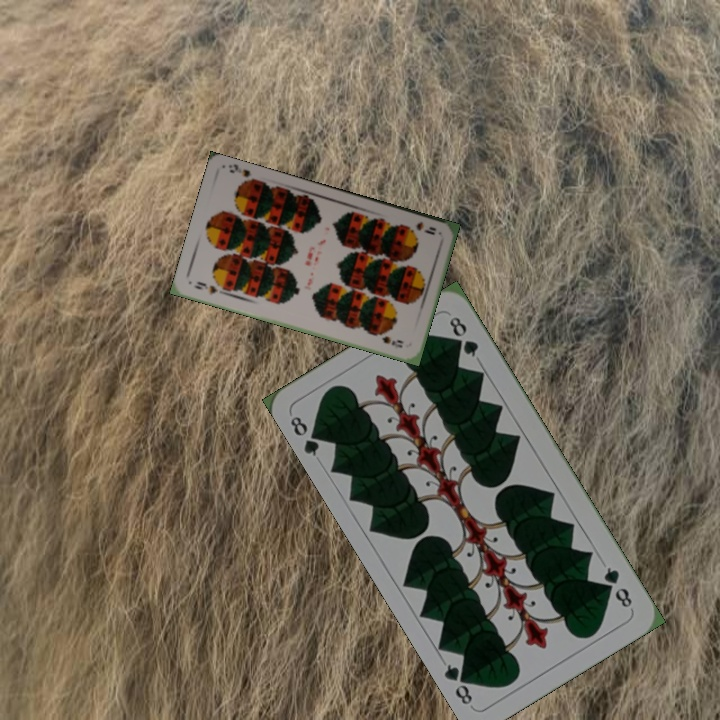G8: (286, 412, 327, 459), (599, 562, 635, 611)
S9: (401, 218, 439, 237), (190, 277, 221, 298)
